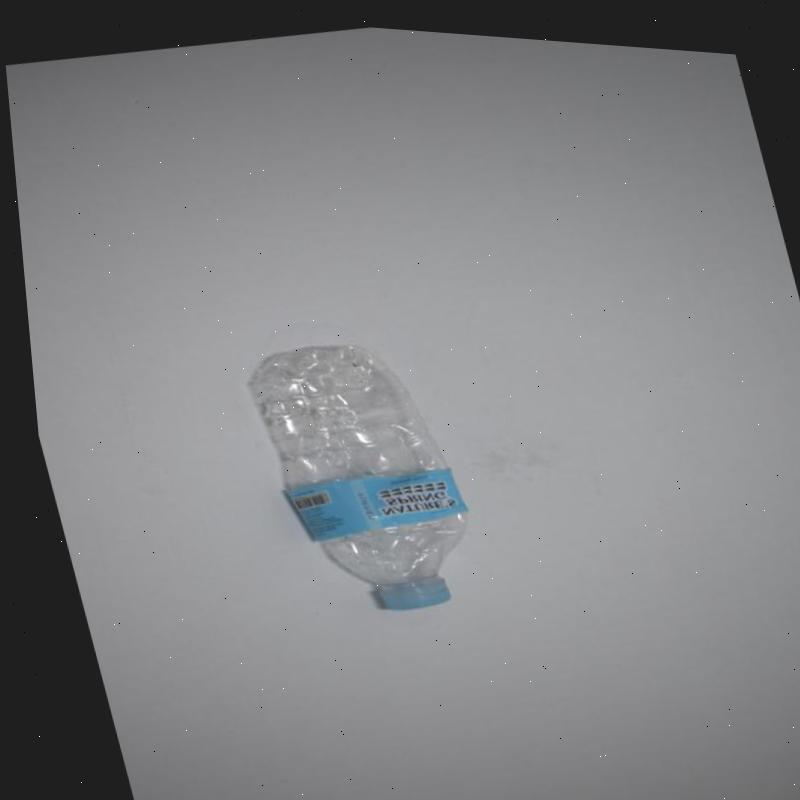botella: (231, 315, 486, 626)
